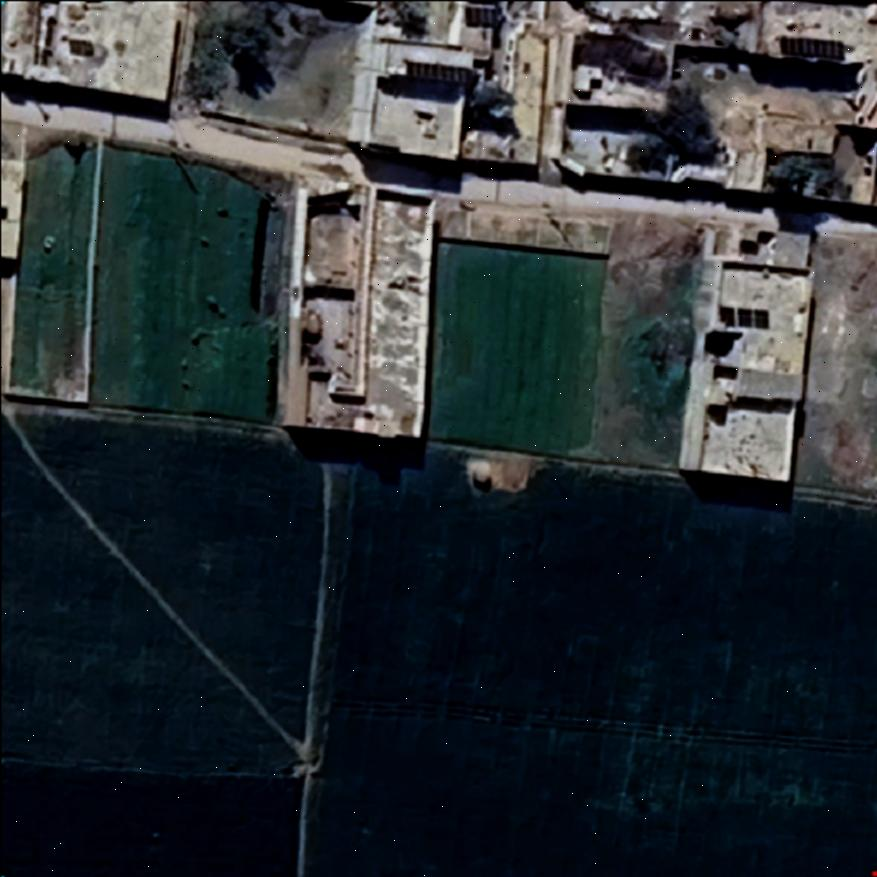Solarpanel: (396, 55, 482, 91), (772, 32, 854, 65), (714, 302, 774, 334), (460, 2, 506, 32)
